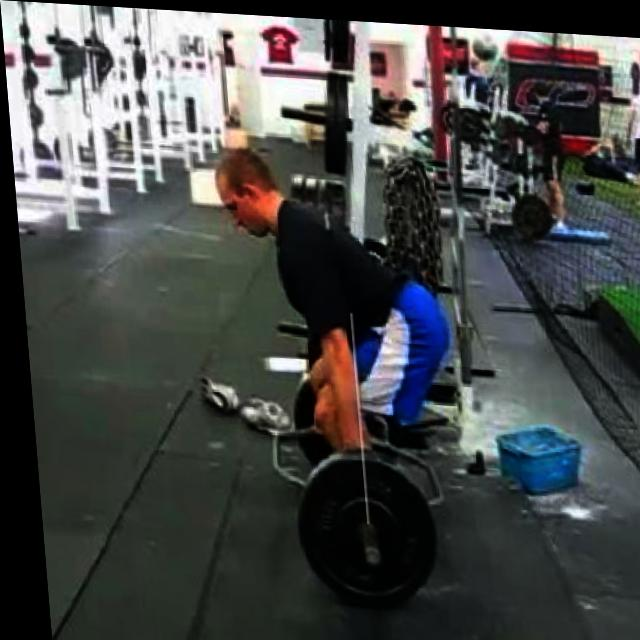barbell: (280, 437, 438, 614)
